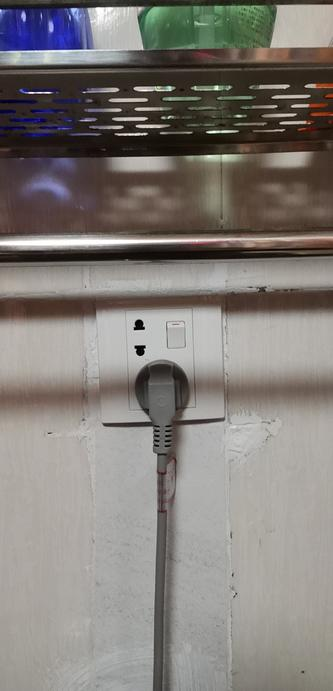switch: (162, 313, 190, 355)
